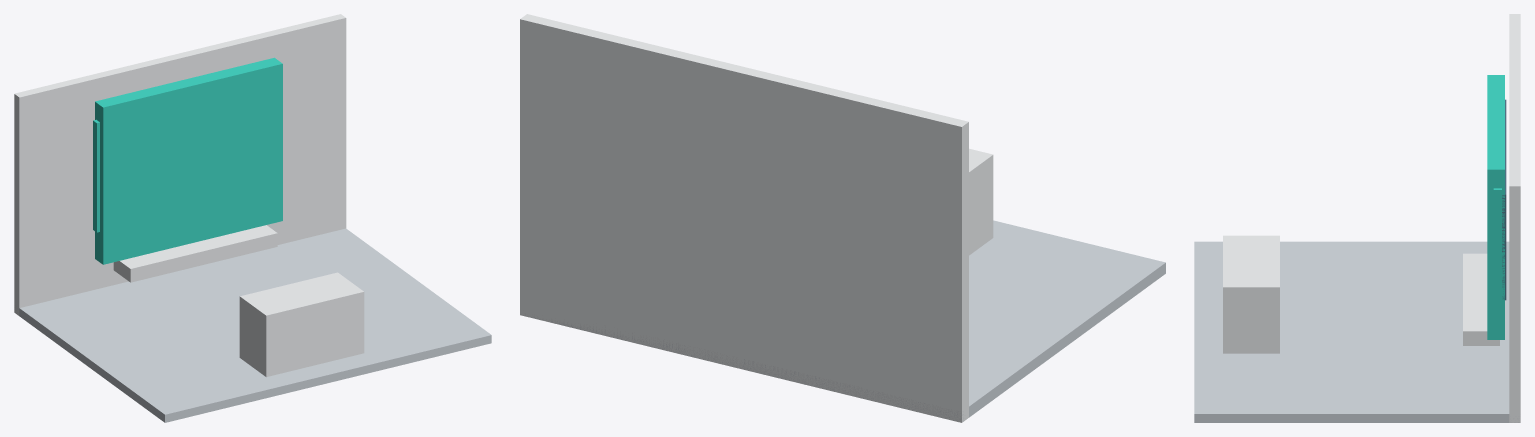
3 renders of one model, left to right at view 1: azimuth 30°, elevation 25°; view 2: azimuth 150°, elevation 25°; view 3: azimuth 270°, elevation 25°, orthographic. The views are drawn at different scales.
Parts seen in each view (by area): view 1: Exhibition Booth Concept; view 2: Exhibition Booth Concept; view 3: Exhibition Booth Concept.
Boxes of the visible parts, bbox=[...] form: Exhibition Booth Concept: bbox=[14, 14, 491, 422]; Exhibition Booth Concept: bbox=[520, 14, 1165, 422]; Exhibition Booth Concept: bbox=[1194, 14, 1520, 422].
Size of the model in its own units: 5 by 3.2 by 4.
